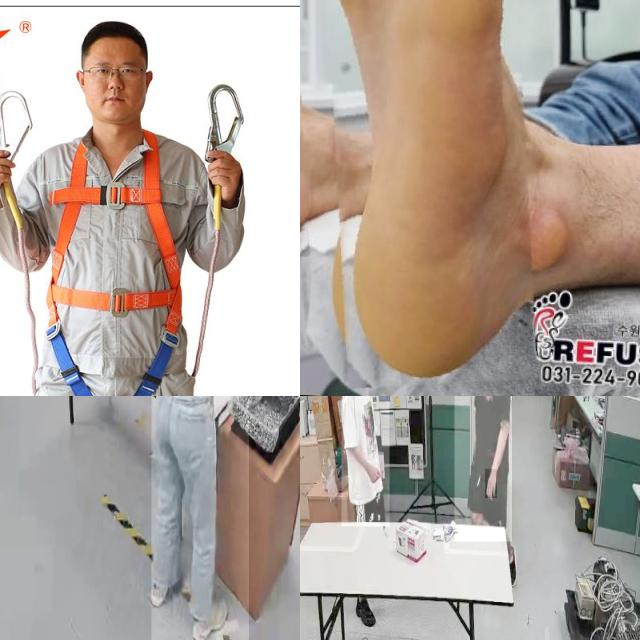Barefoots: (333, 0, 542, 376)
Harness: (37, 130, 184, 396)
hand_noglove: (485, 469, 497, 499), (367, 462, 381, 484)
person: (151, 396, 249, 640), (454, 396, 512, 542), (341, 396, 390, 527)
shoes: (188, 595, 229, 640), (146, 562, 180, 615), (356, 597, 377, 630)
